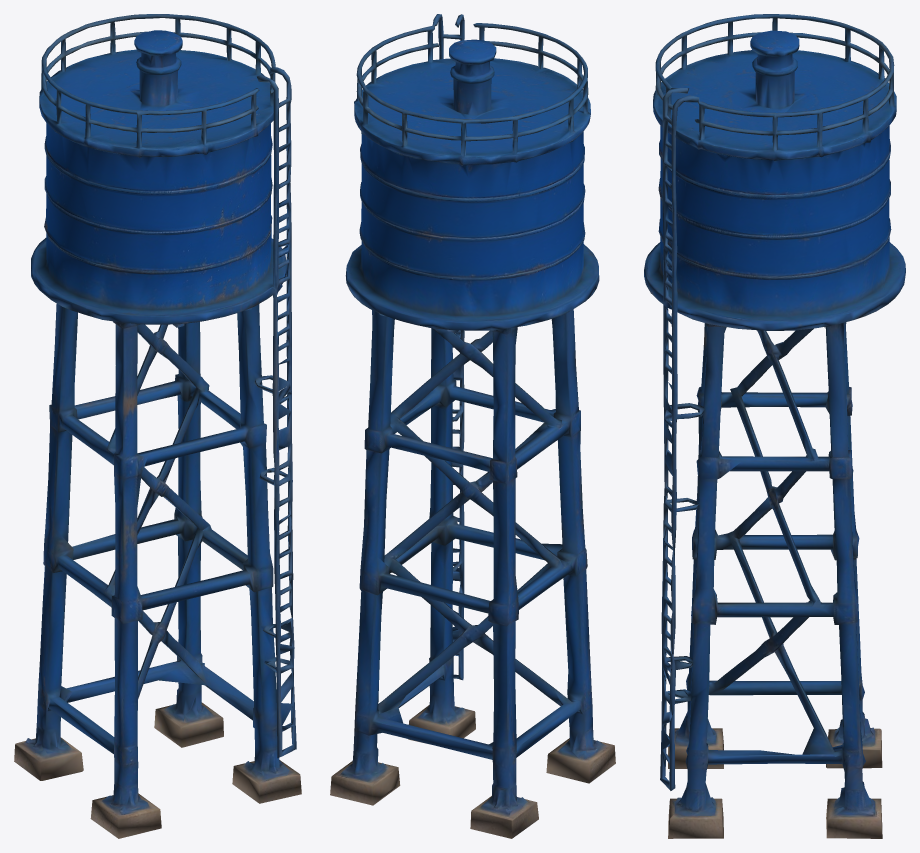
File: tower.glb
3 views of the same model, side by side, from view 1: azimuth 30°, elevation 25°; view 2: azimuth 150°, elevation 25°; view 3: azimuth 270°, elevation 25° (orthographic). The views are drawn at different scales.
Visible parts, largest first — view 1: tripo_node_82f633ba-b80f-4510-8a62-a803337ea9cd; view 2: tripo_node_82f633ba-b80f-4510-8a62-a803337ea9cd; view 3: tripo_node_82f633ba-b80f-4510-8a62-a803337ea9cd.
Part boxes in pixels (box(x1,y1,x2,y2)): tripo_node_82f633ba-b80f-4510-8a62-a803337ea9cd: box(14, 14, 301, 838); tripo_node_82f633ba-b80f-4510-8a62-a803337ea9cd: box(330, 14, 615, 838); tripo_node_82f633ba-b80f-4510-8a62-a803337ea9cd: box(644, 14, 905, 838).
Size of the model in its own units: 0.3154 by 1 by 0.3152.
Materials: 1 (1 with a texture image).
